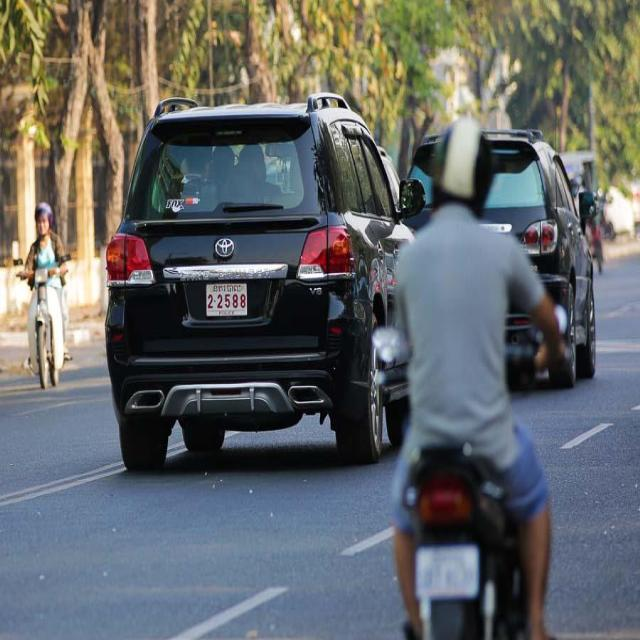Police: (213, 284, 241, 292)
